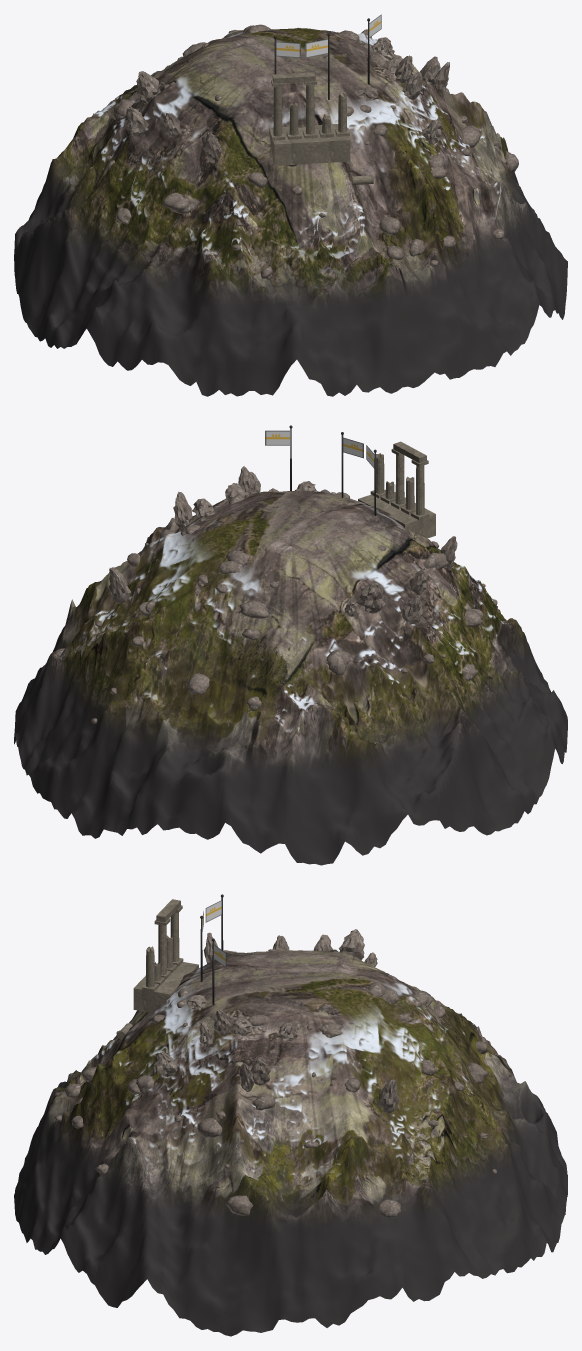
The model's file is mountain.fbx.
3 views of the same model, one above another, from view 1: azimuth 30°, elevation 25°; view 2: azimuth 150°, elevation 25°; view 3: azimuth 270°, elevation 25° (orthographic).
Visible parts, largest first — view 1: Mountain_LOD0, Ruins, Rocks, Crags, Banners; view 2: Mountain_LOD0, Rocks, Crags, Ruins, Banners; view 3: Mountain_LOD0, Rocks, Crags, Ruins.
Part boxes in pixels (bbox=[...]): Mountain_LOD0: bbox=[14, 27, 567, 396]; Ruins: bbox=[269, 72, 373, 184]; Rocks: bbox=[106, 24, 518, 279]; Crags: bbox=[125, 29, 449, 163]; Banners: bbox=[276, 14, 381, 57]; Mountain_LOD0: bbox=[14, 491, 567, 865]; Rocks: bbox=[55, 489, 497, 723]; Crags: bbox=[108, 466, 457, 624]; Ruins: bbox=[358, 441, 435, 538]; Banners: bbox=[265, 430, 374, 468]; Mountain_LOD0: bbox=[14, 949, 567, 1336]; Rocks: bbox=[55, 949, 496, 1217]; Crags: bbox=[154, 929, 399, 1113]; Ruins: bbox=[117, 899, 198, 1039].
Size of what is drawn, in the model's own units: 21 by 12.69 by 21.
5 materials, 5 textured.
